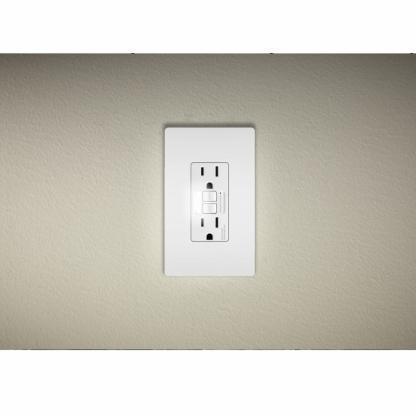OUTLET: (163, 127, 255, 276)
